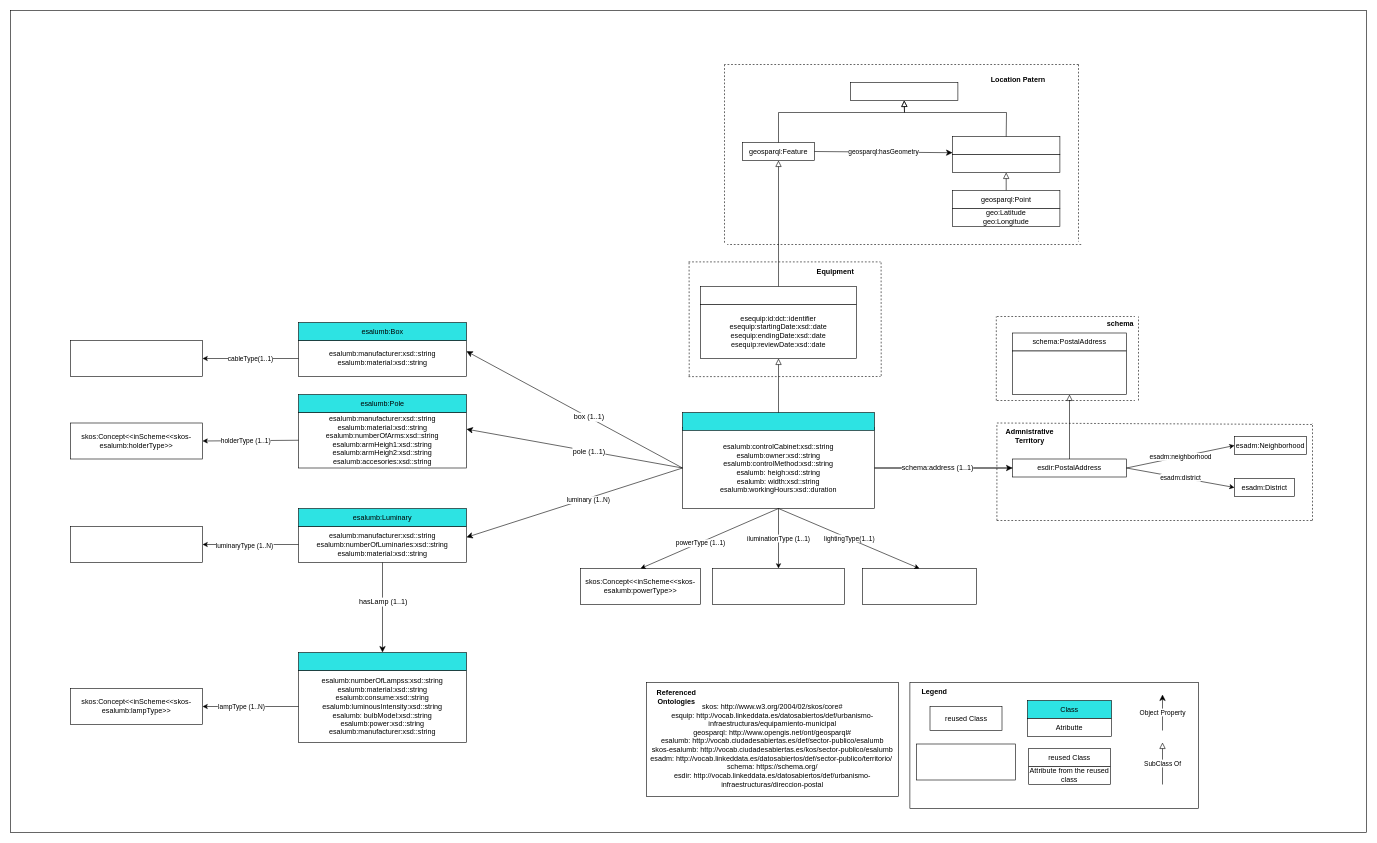
This 1377x843 diagram has some shape labels left out. The centre of each missing label's shape, as x and y in pixels:
"esalumb :Lamp" goes at point 382,661.
"esalumb:streetlight" goes at point 778,421.
"esequip:Equipment" goes at point 778,295.
"geosparql:asWKT ::WKTLiteral" goes at point 1006,163.
"geosparql:Geometry" goes at point 1006,145.
"geosparql:SpatialObject" goes at point 904,91.
"schema: streetAddress schema: addressLocality schema: addressCountry" goes at point 1069,372.
"skos:Concept <<inScheme schemename>>" goes at point 966,761.
"skos:Concept<<inScheme <<skos-esalumb:lightingType>>" goes at point 919,586.
"skos:Concept<<inScheme<<skos-esalumb:cableType>>" goes at point 136,358.
"skos:Concept<<inScheme<<skos-esalumb:iluminationType>>" goes at point 778,586.
"skos:Concept<<inScheme<<skos-esalumb:luminaryType>>" goes at point 136,544.
